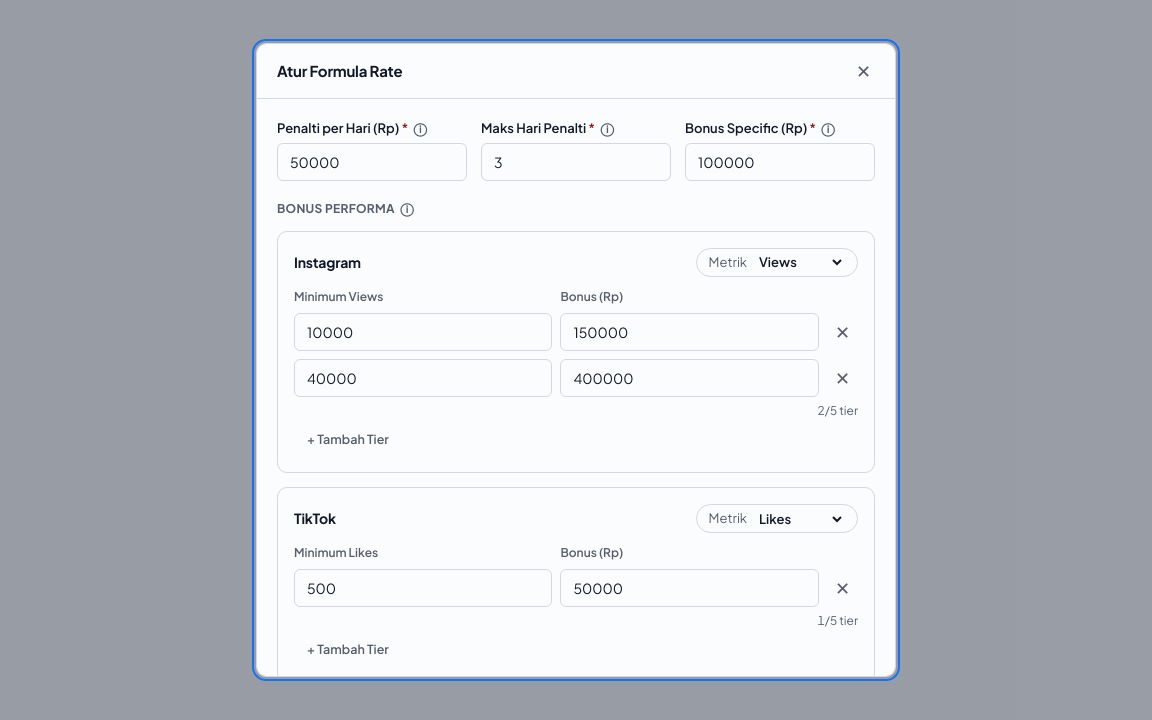
Test: RateFormulaModal › keeps an amount past ten digits as typed and refuses it out loud
This screenshot has width=1152, height=720.
Replace the text in the field labelled "Bonus Specific (Rp)*" with "123456789012" at (780, 162), box [685,143,875,181]
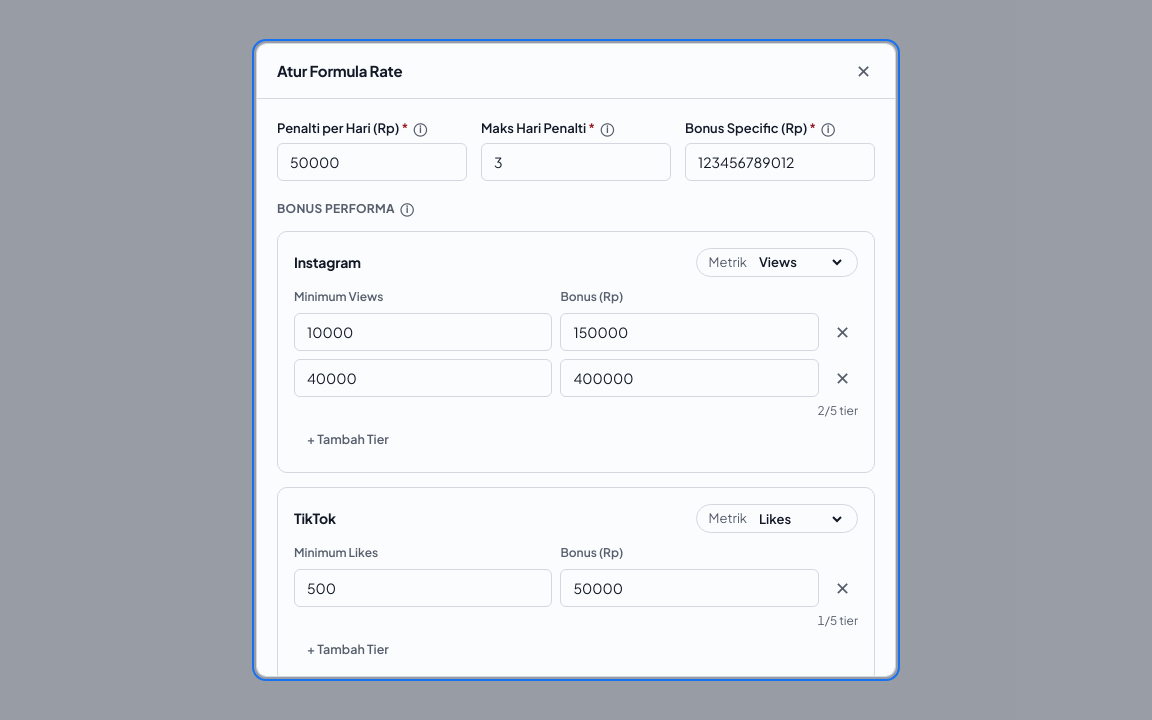
Leave the field labelled "Bonus Specific (Rp)*", box [685,143,875,181]
(page scrolled)
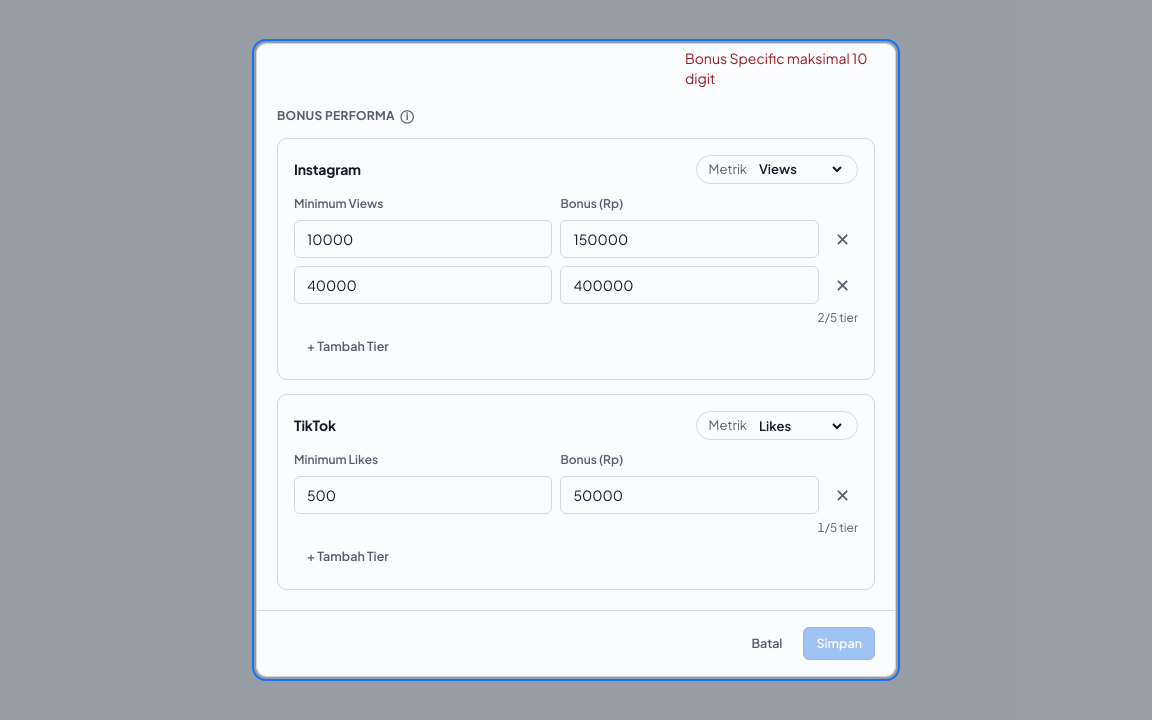
Check: the text "Bonus Specific maksimal 10 digit" is shown, box [685,48,875,88]
Check: the button "Simpan" is disabled, box [803,627,875,660]
